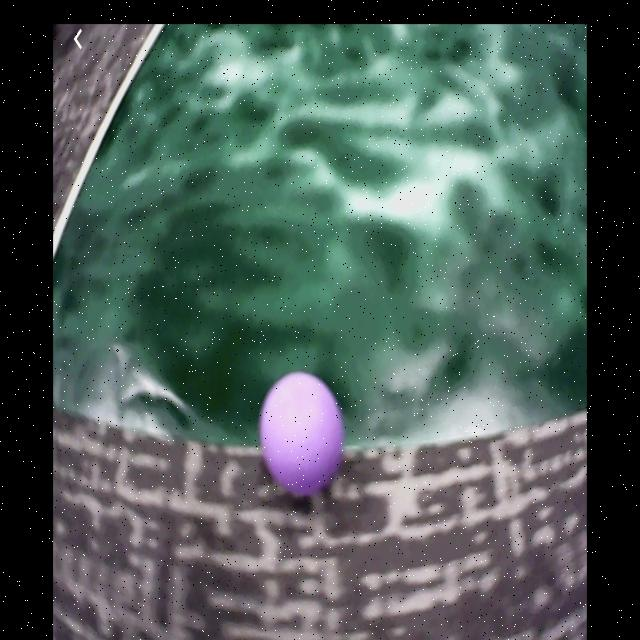ball: (262, 374, 343, 493)
